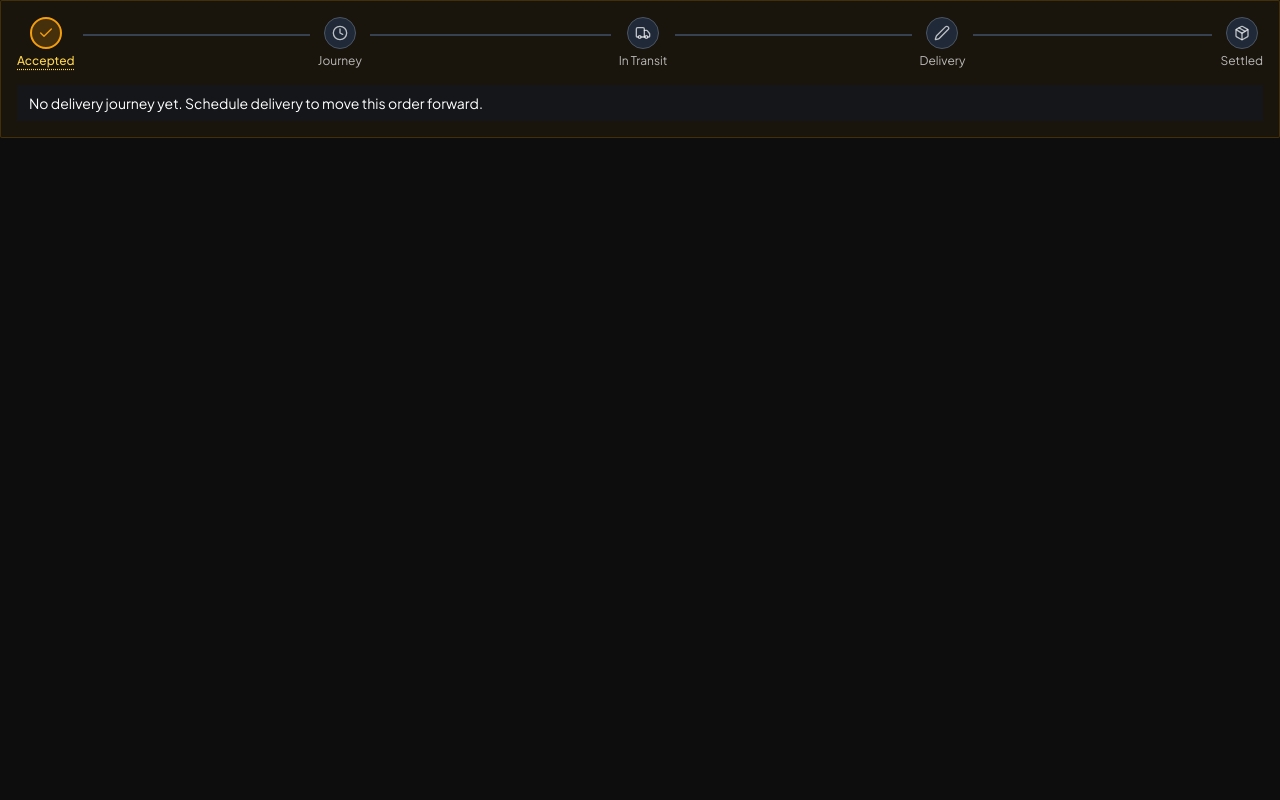
P2POrderFlow › opens the step transaction modal for clickable steps
This screenshot has width=1280, height=800.
Click the button with aria-label "Accepted step": (46, 43) [17,17,74,69]
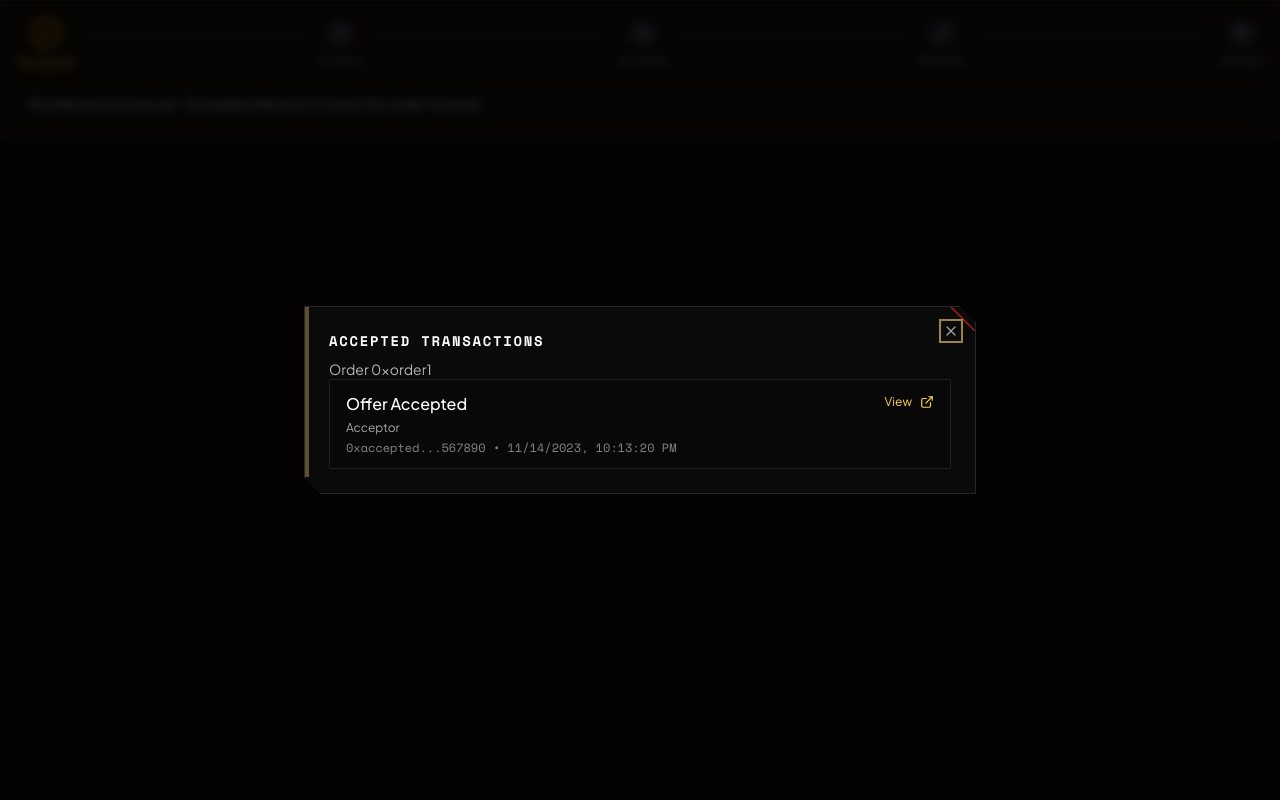
Result: the heading "Accepted Transactions" is shown at [329,330,544,351]
Result: the text "Offer Accepted" is shown at [346,393,467,414]
